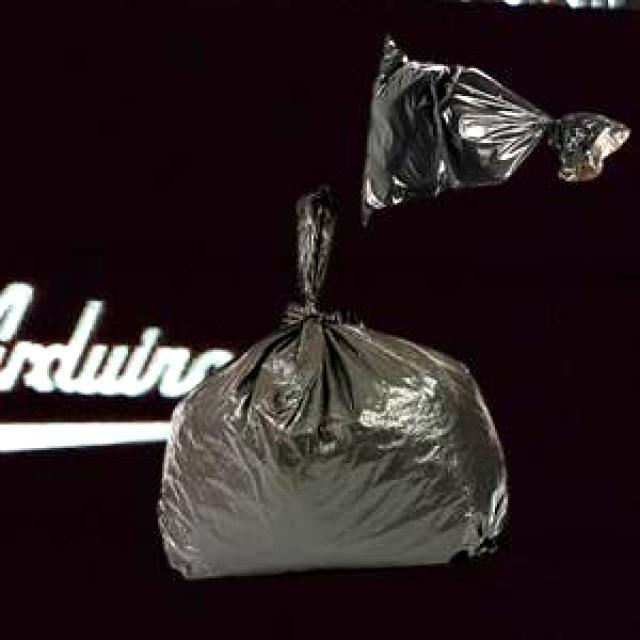Garbage_Bag: (155, 182, 504, 575), (359, 31, 626, 221)
